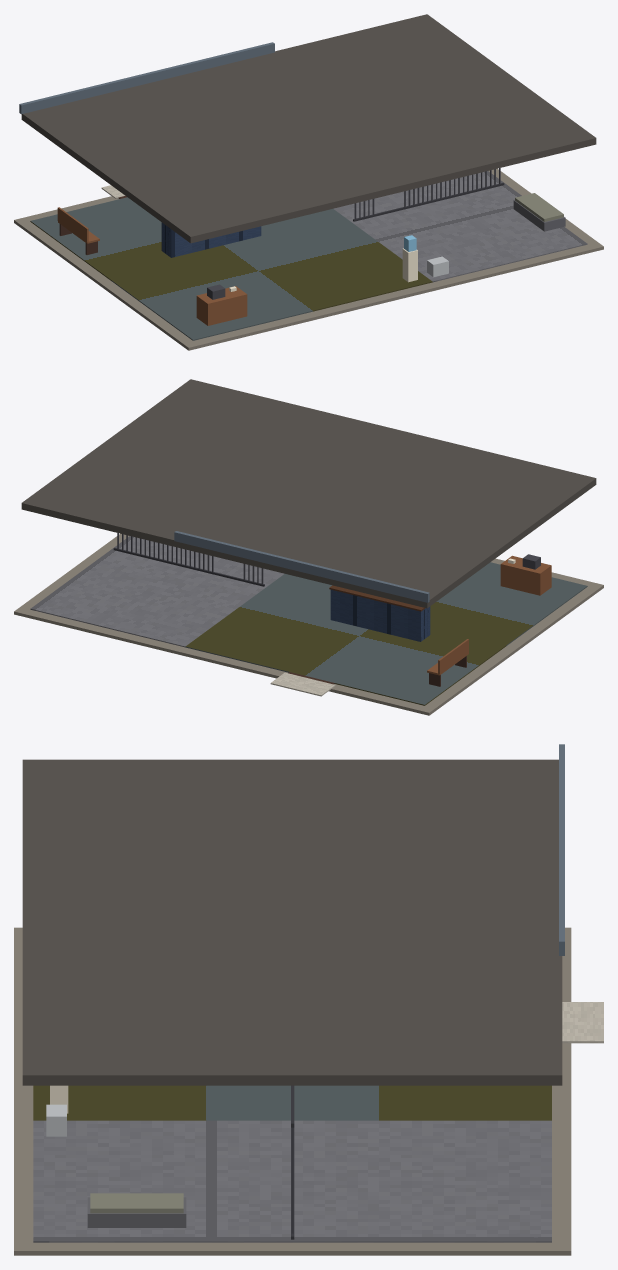
The model's file is structure.glb.
3 renders of one model, top to bottom at view 1: azimuth 30°, elevation 25°; view 2: azimuth 150°, elevation 25°; view 3: azimuth 270°, elevation 25°, orthographic. The views are drawn at different scales.
Visible parts, largest first — view 1: Box6, Box10, Box2, Box8, Box1, Box7, Box19, Box11, Box54, Box53, Box22, Box16 (+1 smaller); view 2: Box6, Box10, Box2, Box8, Box1, Box11, Box7, Box19, Box5, Box12, Box52, Box16; view 3: Box6, Box10, Box8, Box2, Box1, Box54, Box5, Box53, Box7, Box55.
Boxes of the visible parts, x1,y1,x2,y2 form: Box6: [21, 53, 441, 243]; Box10: [269, 14, 596, 183]; Box2: [30, 197, 432, 340]; Box8: [333, 171, 587, 282]; Box1: [14, 168, 603, 350]; Box7: [19, 42, 274, 114]; Box19: [196, 286, 247, 325]; Box11: [161, 222, 261, 257]; Box54: [515, 193, 563, 221]; Box53: [513, 200, 565, 231]; Box22: [402, 248, 417, 282]; Box16: [57, 207, 88, 241]; Box6: [176, 417, 596, 608]; Box10: [21, 379, 349, 548]; Box2: [185, 562, 587, 705]; Box8: [30, 536, 284, 647]; Box1: [14, 533, 603, 715]; Box11: [330, 589, 430, 641]; Box7: [174, 531, 429, 602]; Box19: [500, 555, 551, 595]; Box5: [270, 672, 335, 696]; Box12: [329, 585, 425, 611]; Box52: [113, 547, 264, 586]; Box16: [438, 639, 468, 673]; Box6: [22, 759, 558, 954]; Box10: [22, 950, 562, 1085]; Box8: [33, 1120, 551, 1242]; Box2: [33, 1085, 551, 1120]; Box1: [14, 927, 571, 1255]; Box54: [90, 1193, 183, 1213]; Box5: [562, 1002, 603, 1043]; Box53: [87, 1197, 186, 1227]; Box7: [559, 744, 564, 955]; Box55: [46, 1104, 66, 1136].
Bounding box in the file's own units: 14.74 × 4.05 × 11.37.
18 materials, 4 textured.
